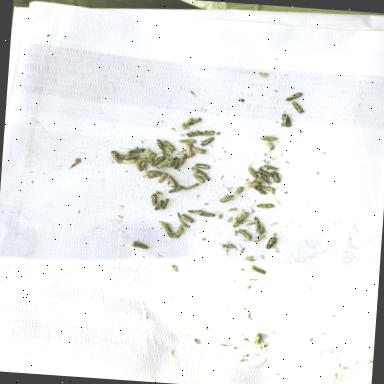pbw: (250, 262, 268, 276), (155, 156, 171, 170), (254, 200, 276, 210), (236, 230, 253, 241), (164, 156, 178, 169), (263, 138, 276, 152), (249, 219, 263, 232), (290, 100, 304, 113), (150, 156, 165, 168), (178, 213, 194, 224), (217, 194, 236, 203), (179, 117, 192, 130), (270, 170, 282, 184), (110, 150, 122, 164), (132, 240, 148, 250), (258, 134, 278, 142), (172, 226, 183, 240), (167, 185, 184, 194), (127, 146, 146, 154), (145, 170, 161, 179), (184, 182, 200, 191), (190, 166, 206, 175), (165, 176, 177, 188), (266, 236, 277, 249), (152, 198, 162, 212), (200, 136, 214, 146), (286, 92, 300, 102), (192, 173, 206, 183), (243, 181, 260, 189), (258, 172, 270, 183), (281, 114, 291, 127), (186, 130, 202, 138), (124, 152, 140, 160), (255, 178, 271, 186), (260, 186, 276, 194), (247, 166, 258, 177), (164, 227, 175, 238), (134, 158, 144, 170), (222, 242, 237, 250), (157, 172, 167, 184), (155, 138, 165, 150), (232, 218, 244, 228), (159, 198, 169, 210), (139, 156, 154, 164), (191, 147, 207, 154), (178, 153, 186, 167), (194, 162, 210, 169), (258, 168, 272, 176), (121, 157, 137, 164), (232, 186, 243, 196), (178, 138, 196, 144), (164, 140, 174, 150), (254, 187, 266, 195), (157, 220, 169, 228), (187, 208, 203, 214), (263, 164, 279, 170), (176, 220, 188, 228), (150, 194, 157, 207), (191, 116, 201, 125), (184, 144, 192, 155), (201, 174, 212, 182), (174, 158, 180, 170), (140, 157, 146, 169), (201, 212, 215, 217), (162, 145, 172, 152), (118, 153, 130, 158), (185, 154, 195, 160), (160, 151, 168, 157)
